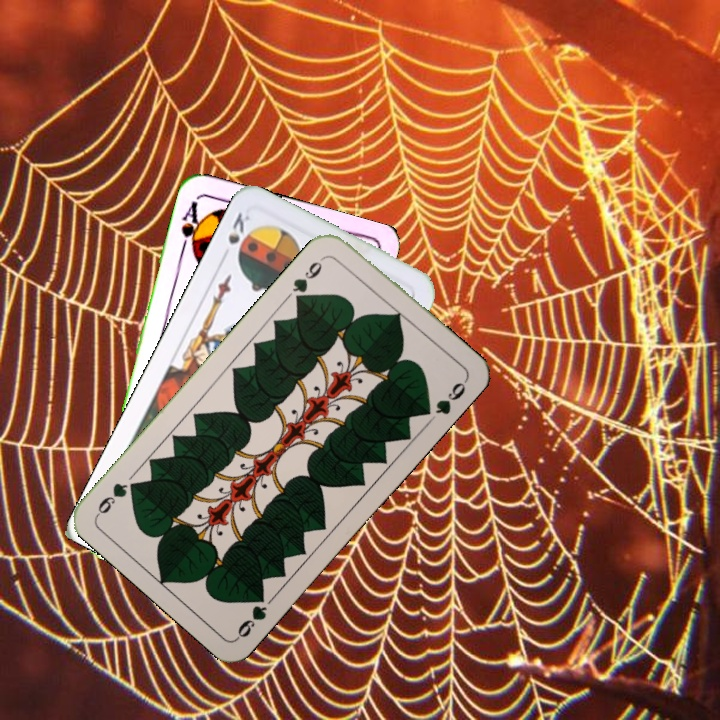G9: (288, 252, 329, 305), (232, 586, 270, 641)
SA: (177, 197, 206, 256)
SK: (224, 208, 253, 247)
